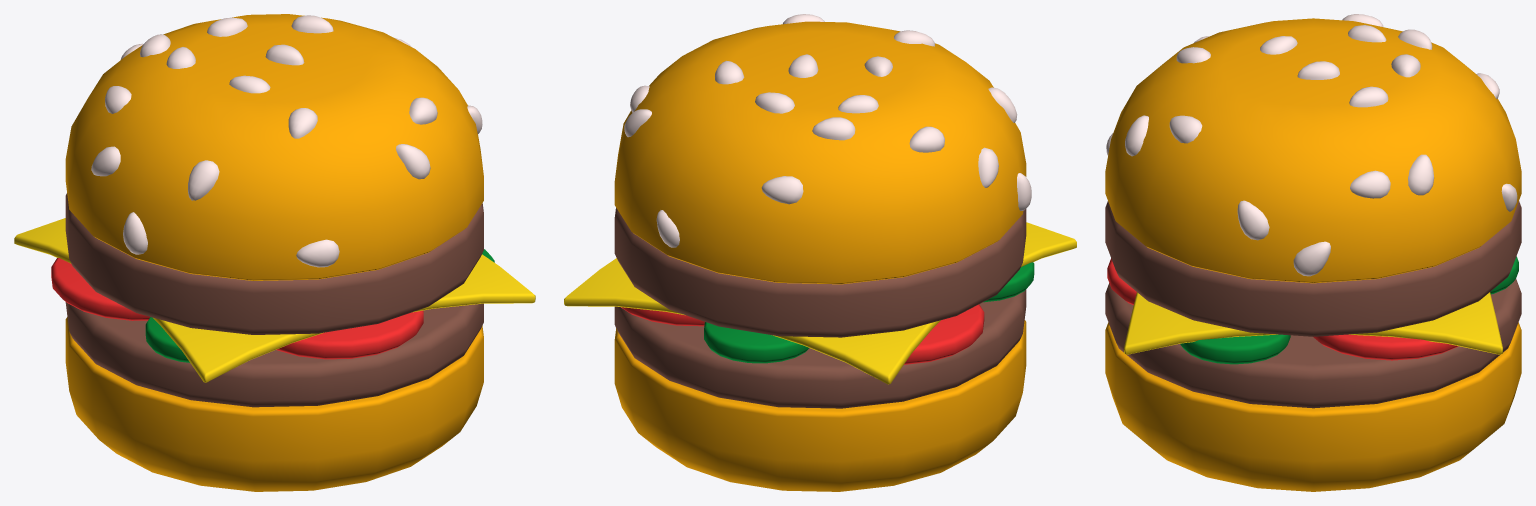
The model's file is Store_2_Burger_1.glb.
3 views of the same model, side by side, from view 1: azimuth 30°, elevation 25°; view 2: azimuth 150°, elevation 25°; view 3: azimuth 270°, elevation 25° (orthographic).
Visible parts, largest first — view 1: Store_2_Burger_1; view 2: Store_2_Burger_1; view 3: Store_2_Burger_1.
Part boxes in pixels (x1=…): Store_2_Burger_1: x1=14, y1=14, x2=535, y2=491; Store_2_Burger_1: x1=564, y1=14, x2=1076, y2=491; Store_2_Burger_1: x1=1105, y1=14, x2=1521, y2=491.
Bounding box in the file's own units: 2.65 × 2.5 × 2.58.
1 material, 1 textured.
